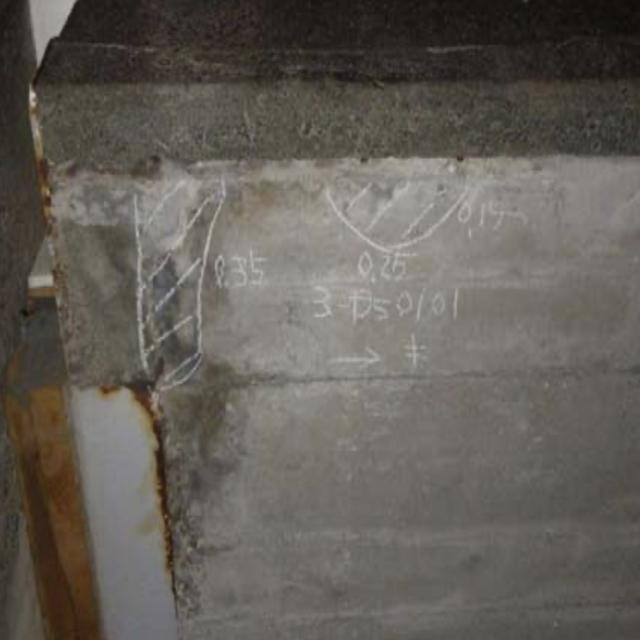spalling: (323, 161, 546, 236), (50, 170, 233, 234)
